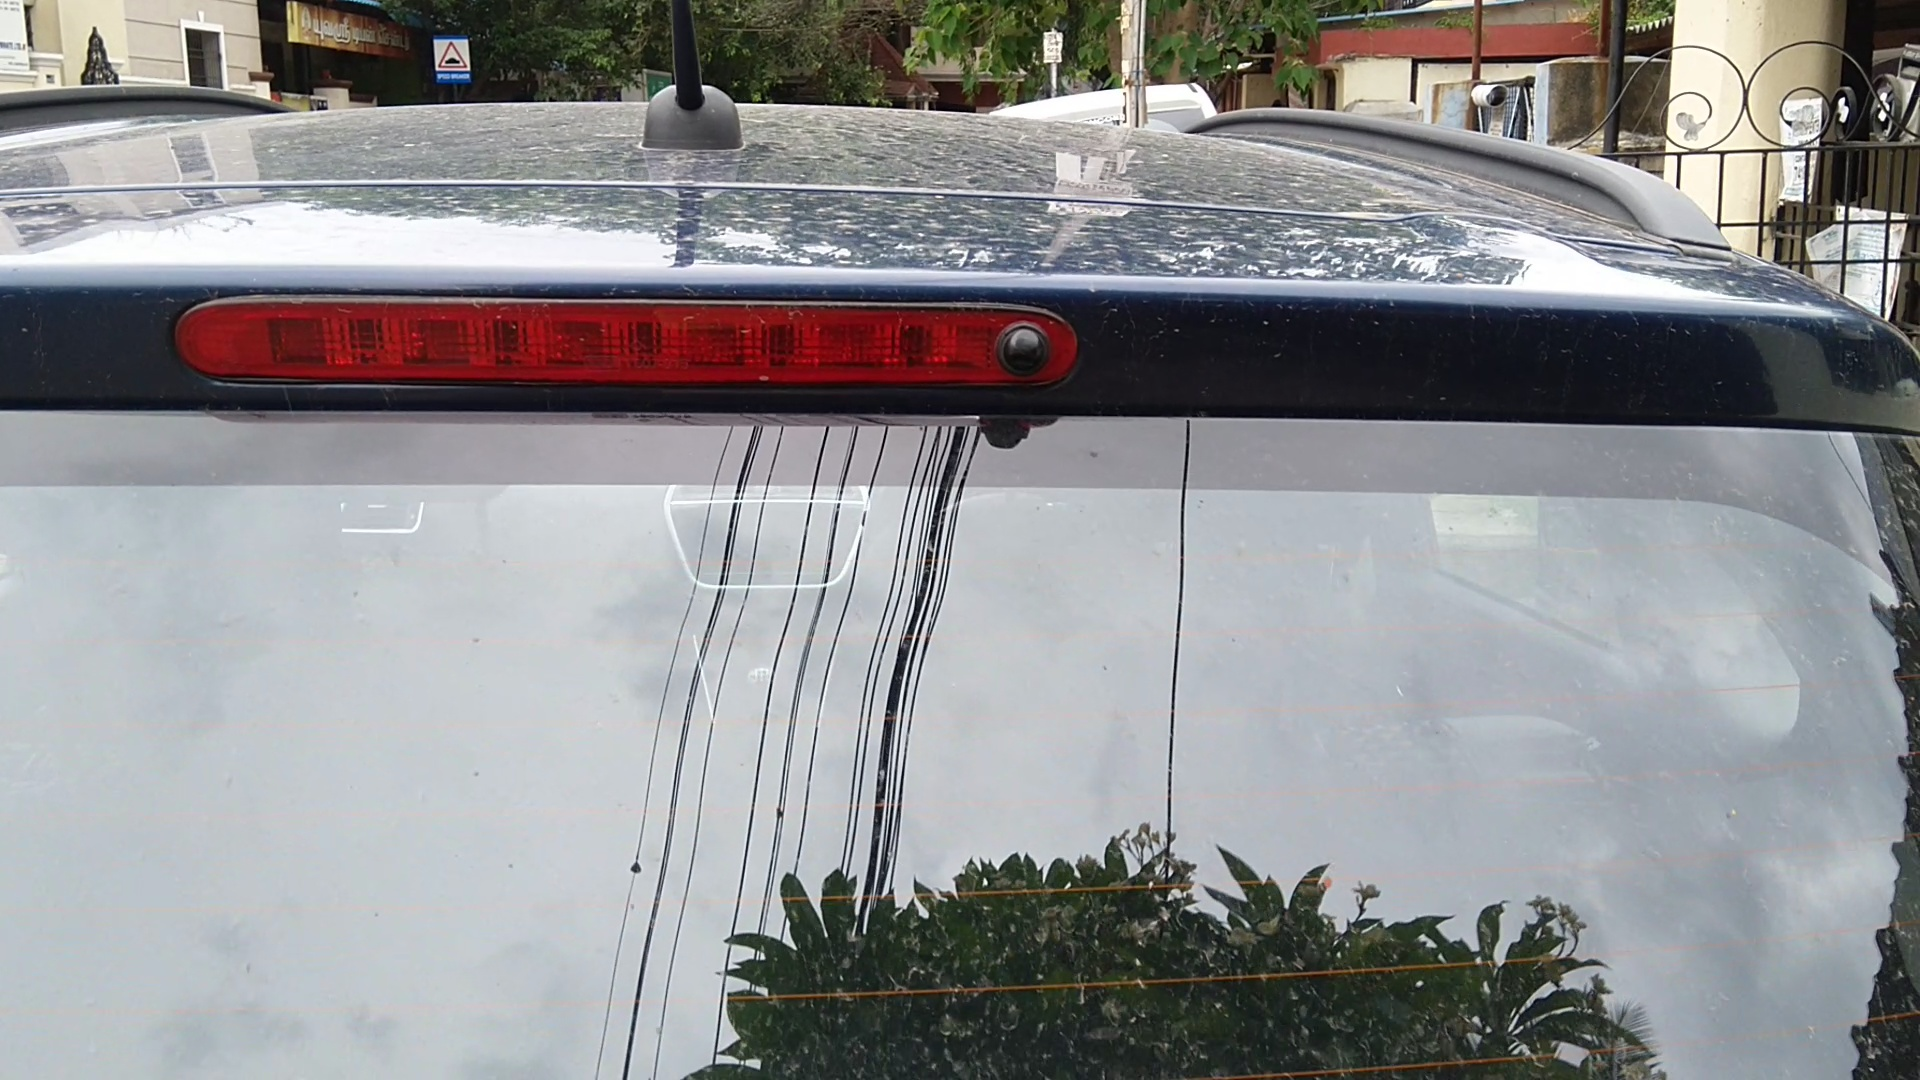rear_camera: (985, 309, 1062, 381)
